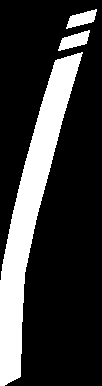parkingspot: (0, 52, 82, 386), (58, 30, 89, 50), (66, 9, 96, 28)
